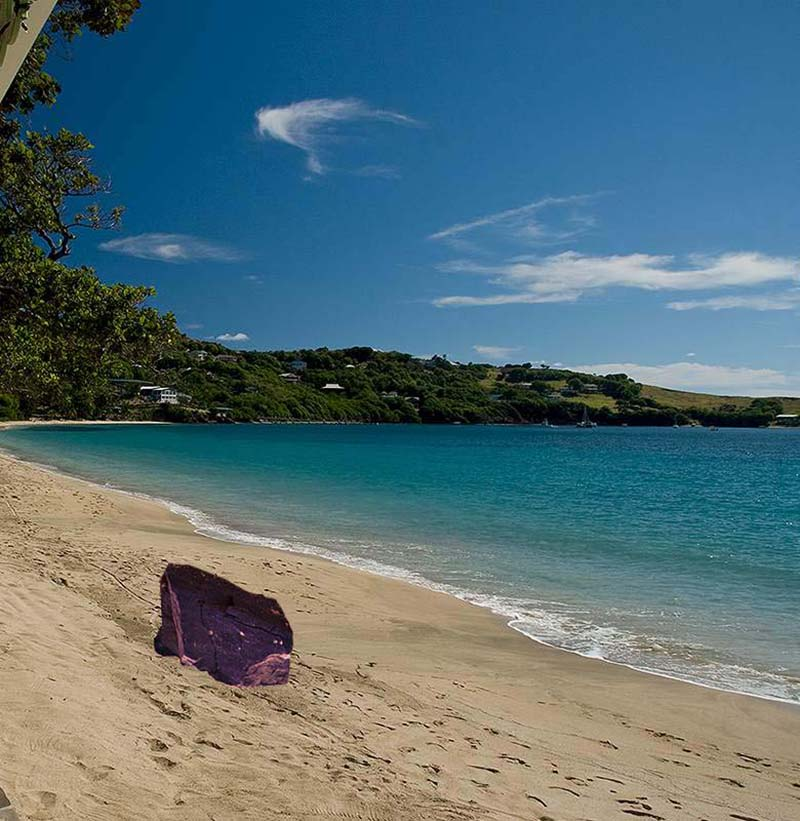Rocks: (153, 555, 306, 697)
